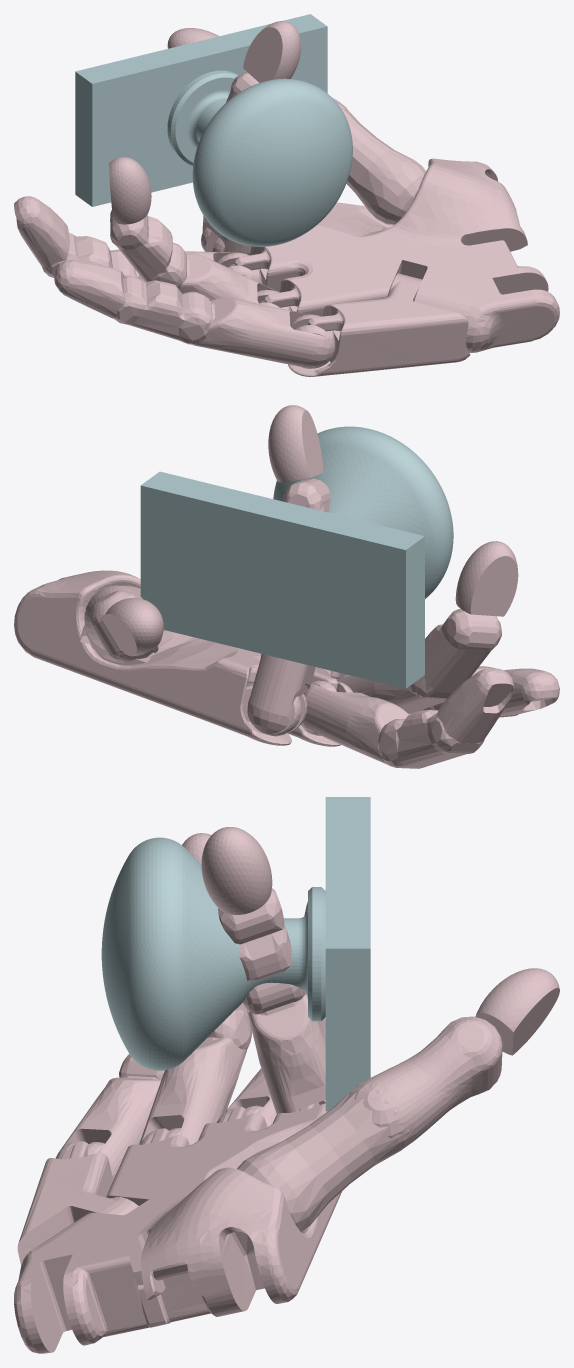
The model's file is grasp_3.glb.
3 renders of one model, top to bottom at view 1: azimuth 30°, elevation 25°; view 2: azimuth 150°, elevation 25°; view 3: azimuth 270°, elevation 25°, orthographic. The views are drawn at different scales.
Parts seen in each view (by area): view 1: world; view 2: world; view 3: world.
Part boxes in pixels (x1=…): world: x1=14, y1=14, x2=559, y2=376; world: x1=14, y1=405, x2=559, y2=768; world: x1=14, y1=797, x2=559, y2=1353.
Bounding box in the file's own units: 0.1953 × 0.1265 × 0.1523.
